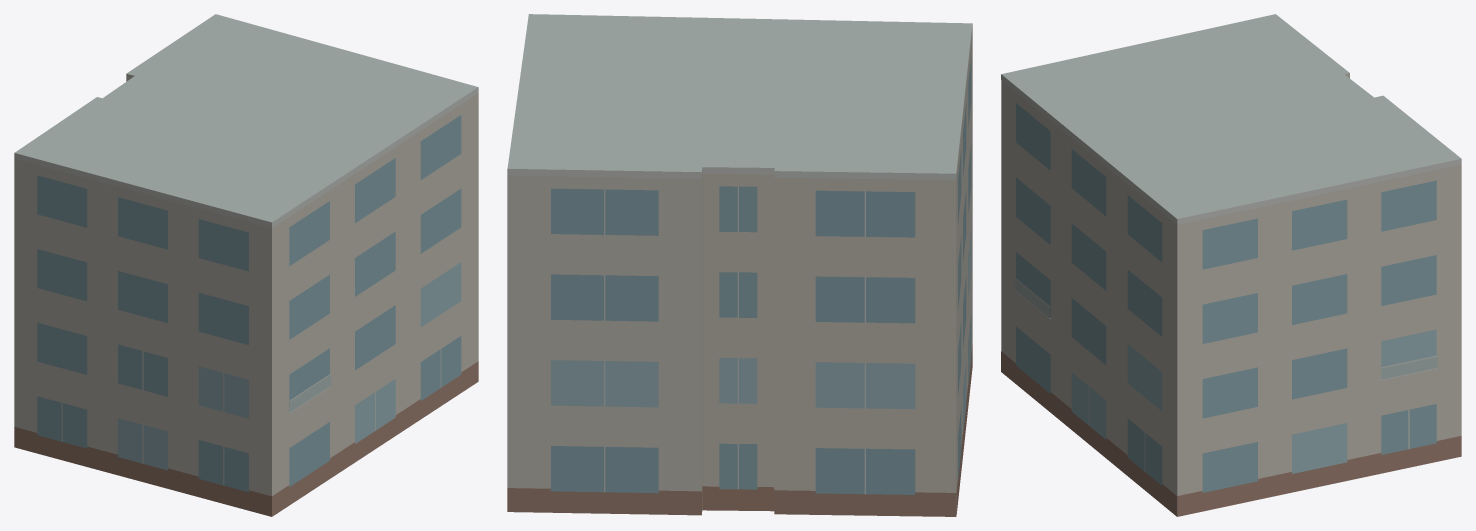
File: survey-upis-32736500.glb
3 renders of one model, left to right at view 1: azimuth 30°, elevation 25°; view 2: azimuth 150°, elevation 25°; view 3: azimuth 270°, elevation 25°, orthographic. The views are drawn at different scales.
Parts seen in each view (by area): view 1: survey-upis-32736500.tmp; view 2: survey-upis-32736500.tmp; view 3: survey-upis-32736500.tmp.
Part boxes in pixels (x1=…): survey-upis-32736500.tmp: x1=14, y1=14, x2=478, y2=516; survey-upis-32736500.tmp: x1=507, y1=14, x2=972, y2=516; survey-upis-32736500.tmp: x1=1001, y1=14, x2=1461, y2=516.
Size of the model in its own units: 18.62 by 12.6 by 17.67.
